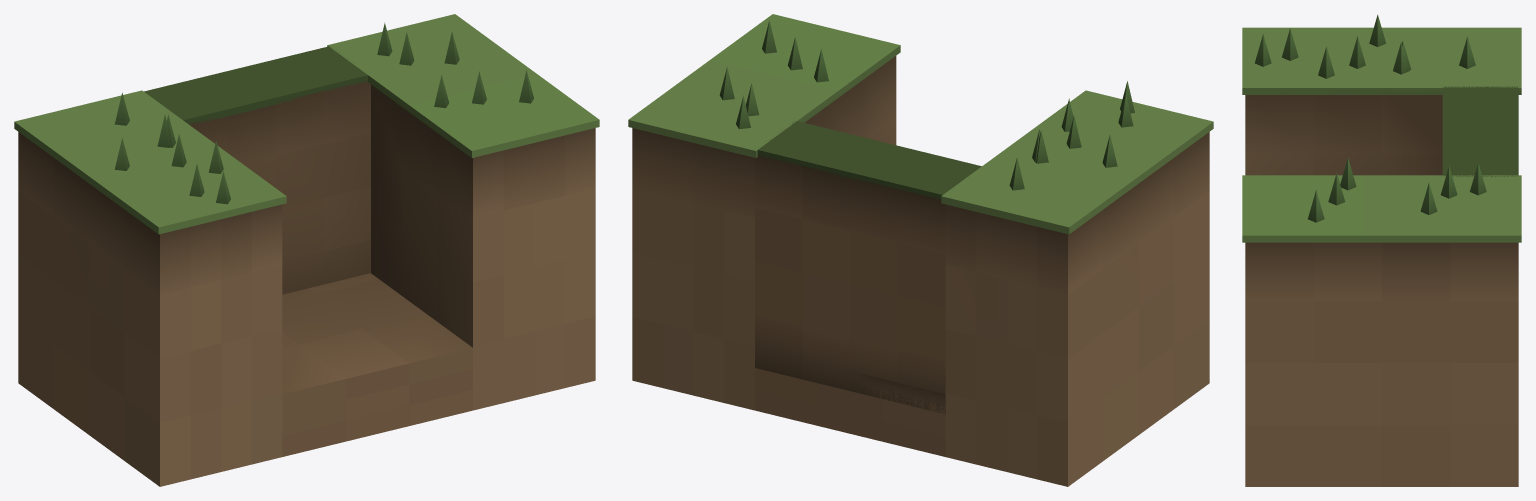
The model's file is recharge-cutaway.glb.
3 renders of one model, left to right at view 1: azimuth 30°, elevation 25°; view 2: azimuth 150°, elevation 25°; view 3: azimuth 270°, elevation 25°, orthographic. The views are drawn at different scales.
Visible parts, largest first — view 1: recharge-cutaway; view 2: recharge-cutaway; view 3: recharge-cutaway.
Part boxes in pixels (x1=…): recharge-cutaway: x1=14, y1=14, x2=599, y2=486; recharge-cutaway: x1=628, y1=14, x2=1213, y2=486; recharge-cutaway: x1=1242, y1=14, x2=1521, y2=486.
Size of the model in its own units: 3.24 by 2.05 by 1.84.
